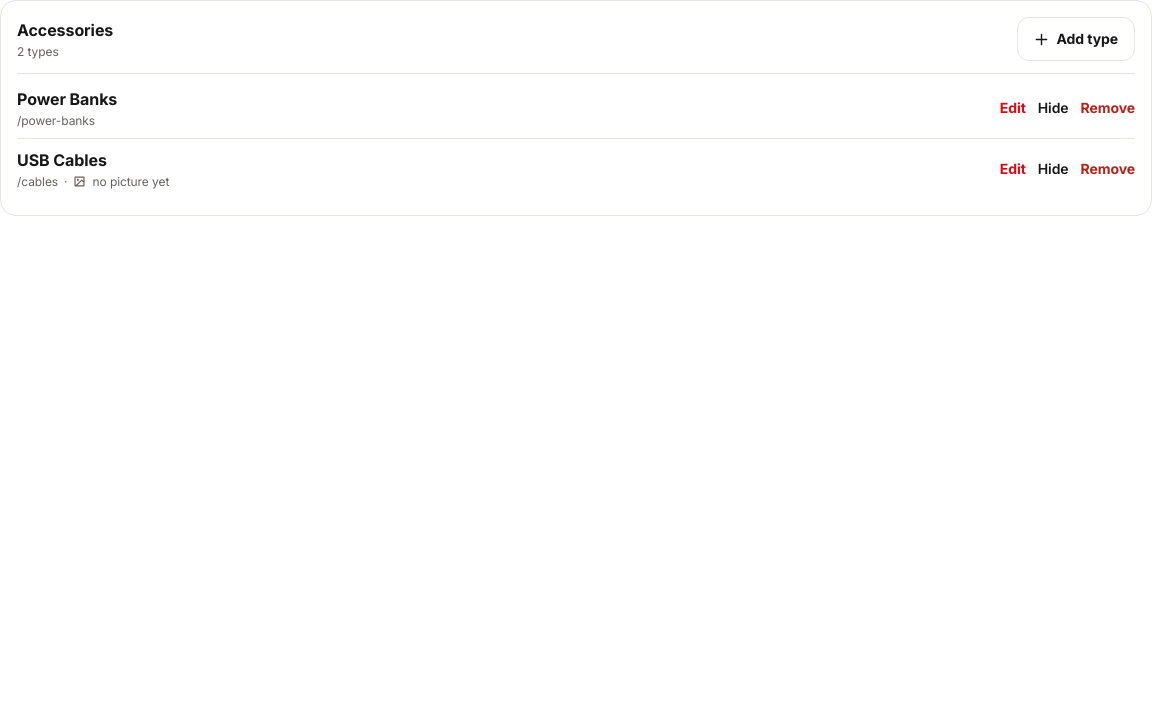
the types screen › fixes the parent to the section the button belongs to
The width and height of the screenshot is (1152, 720).
Click the button with aria-label "Add a type to Accessories".
click(1076, 39)  # box [1016, 17, 1135, 61]
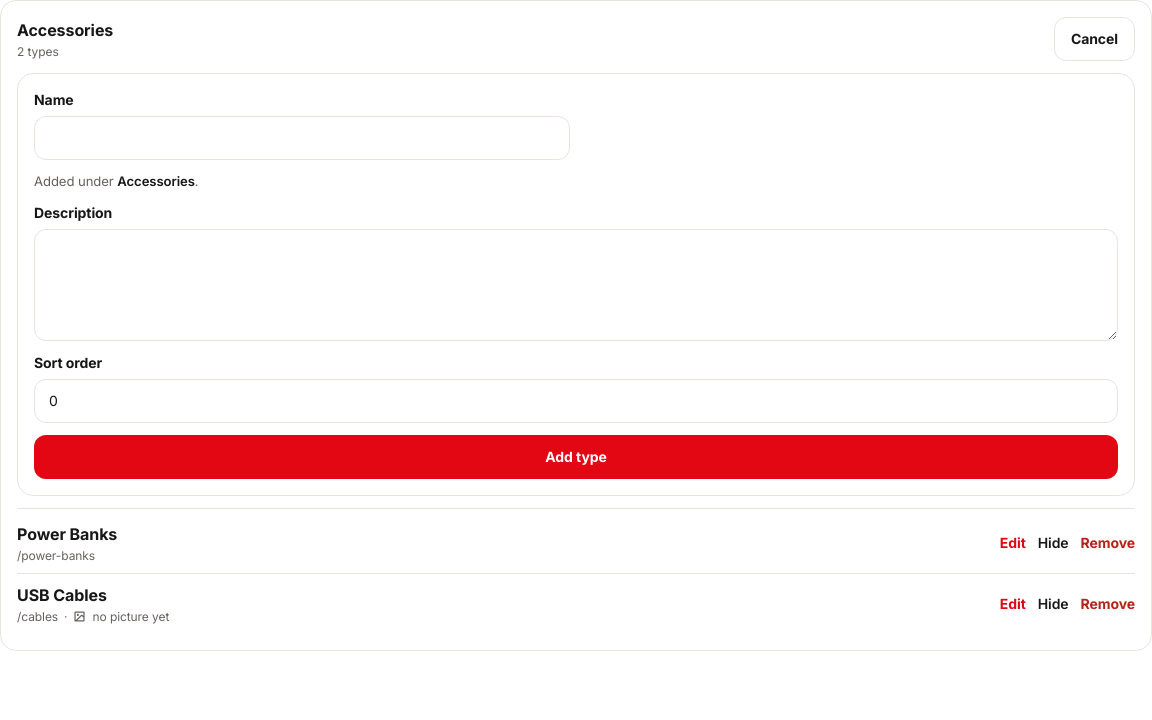
Expected: the form named "parentId" holds "accessories", [17, 73, 1135, 496]
